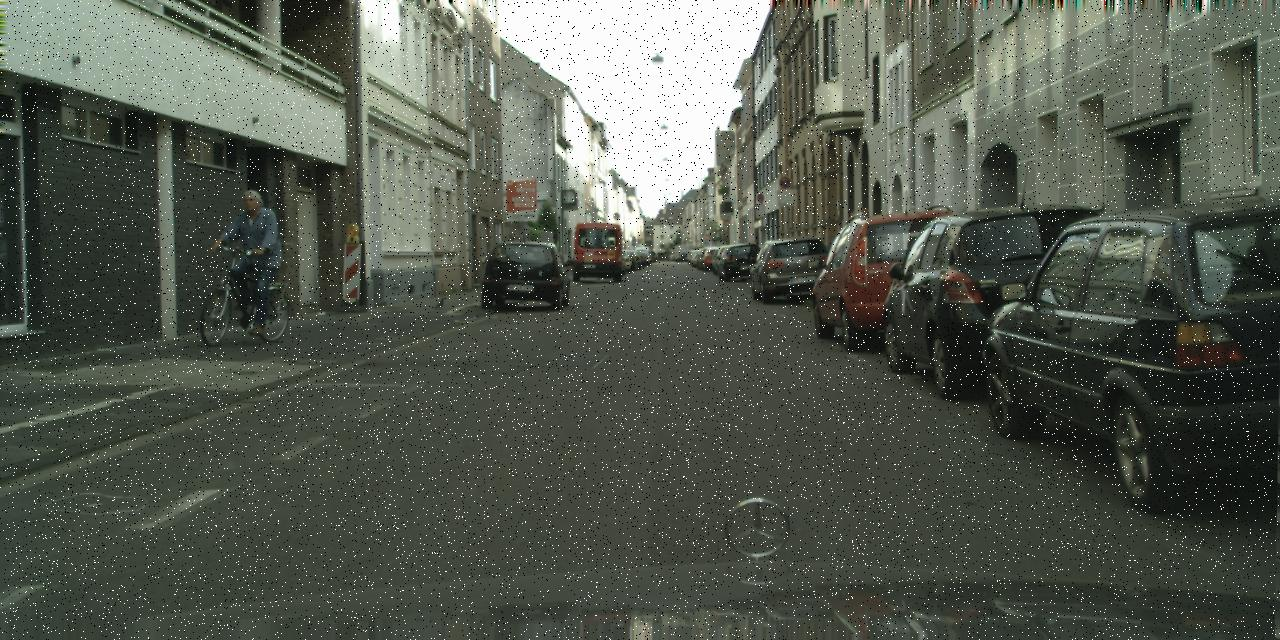ped: (225, 189, 277, 317)
